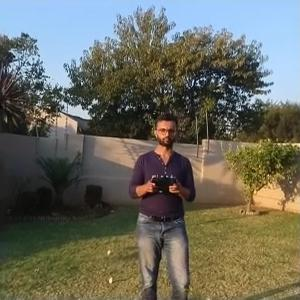follow: (124, 106, 201, 298)
